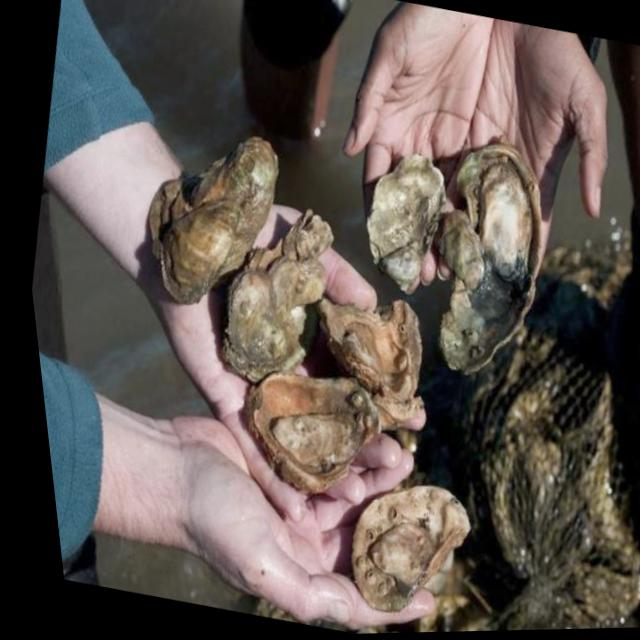Oyster-Indeterminate: (146, 136, 279, 307), (223, 212, 334, 383), (366, 156, 445, 264), (441, 211, 488, 299)
Oyster-Open: (436, 144, 542, 375), (251, 374, 394, 490), (352, 485, 470, 617), (313, 298, 422, 405)
